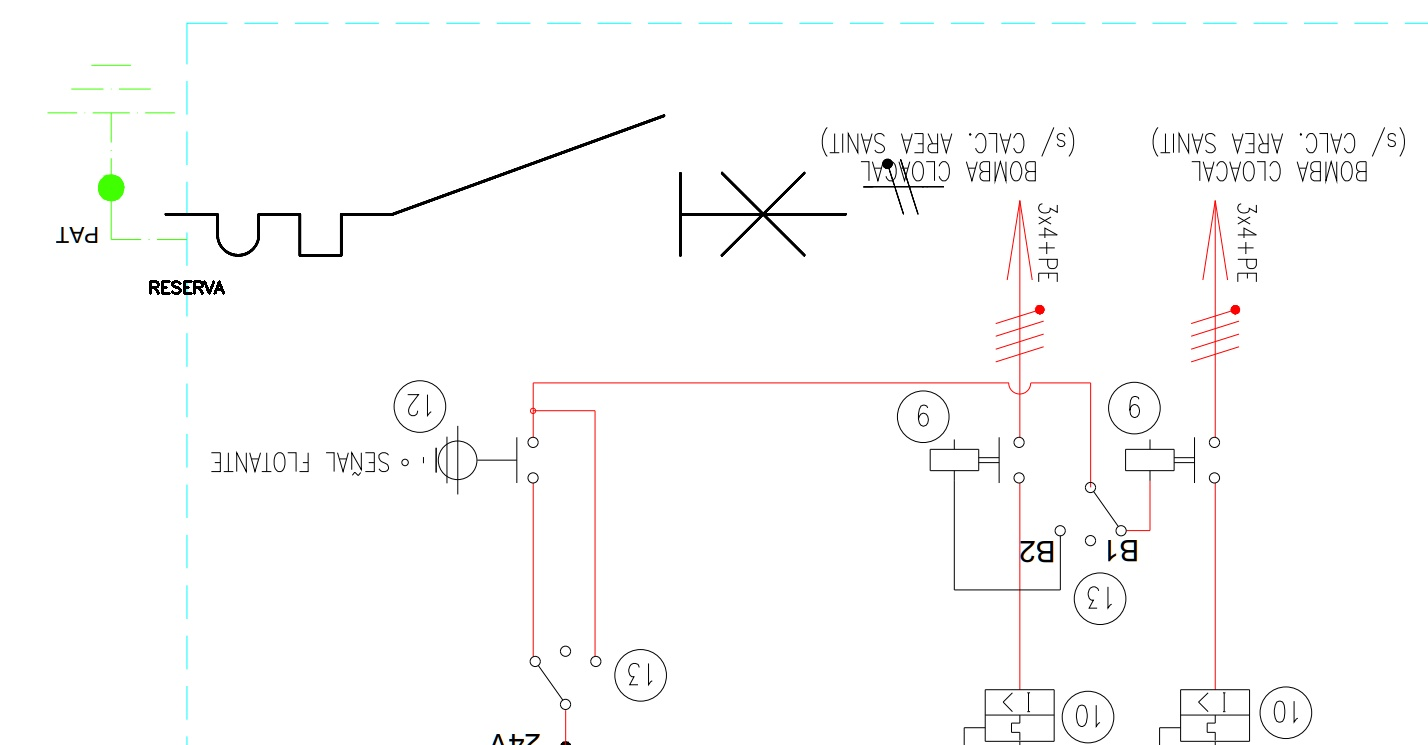interruptor_termomagnetico: (148, 98, 863, 273)
